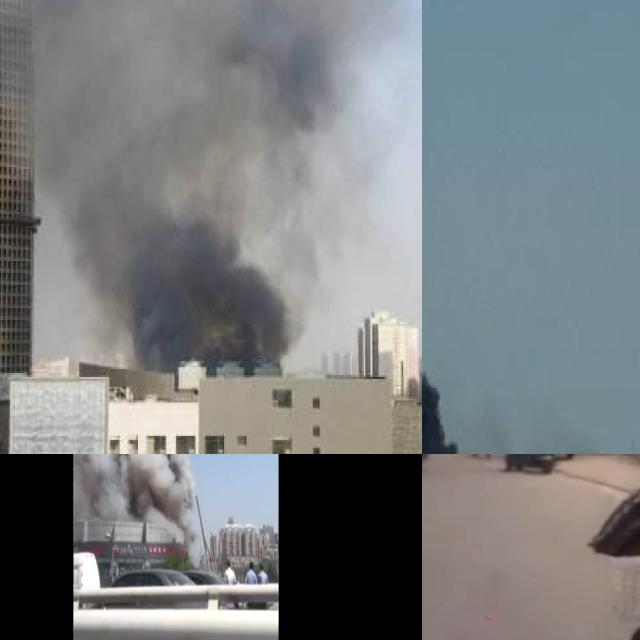smoke: (14, 0, 399, 371), (422, 0, 473, 454)
